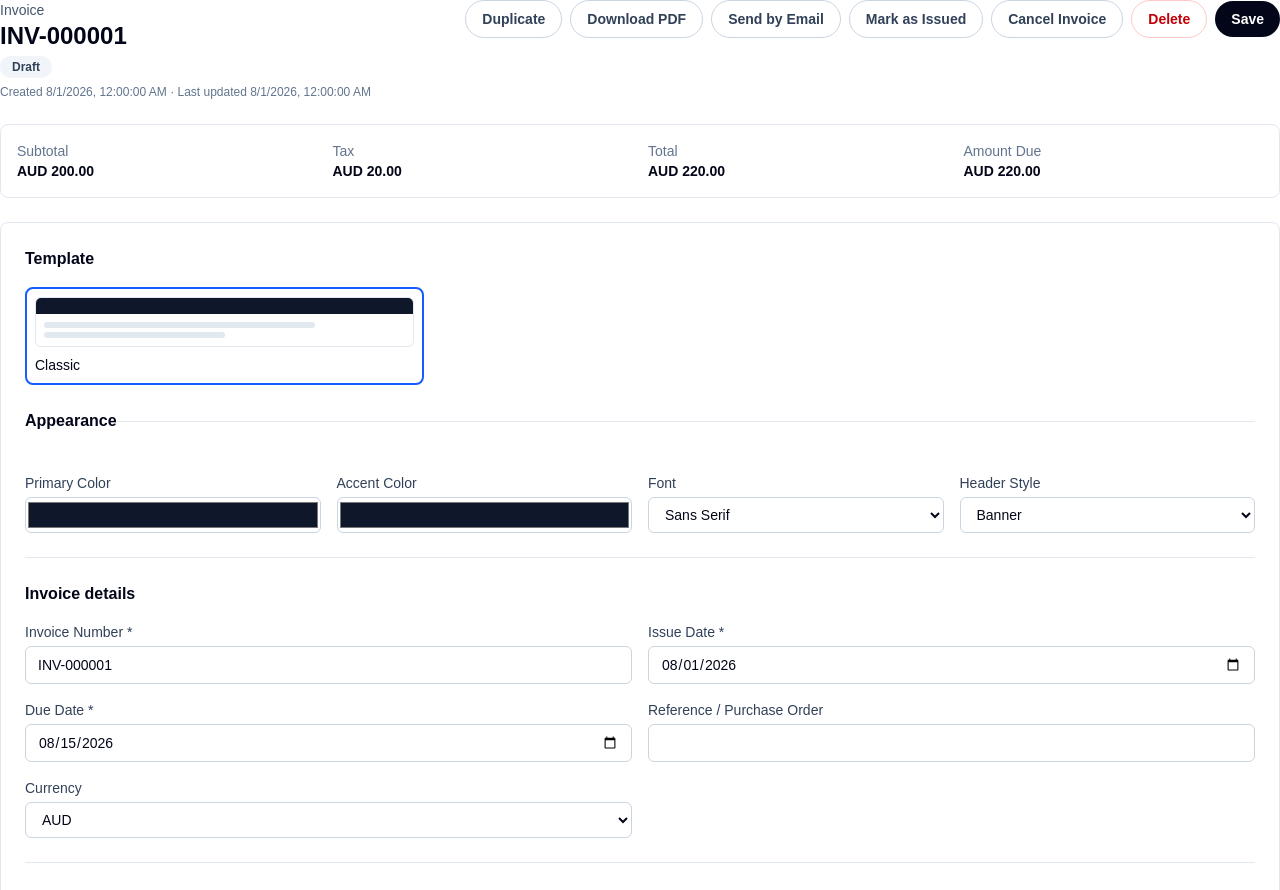
InvoiceDetail › cancel and delete (IG-49) › cancels the invoice after confirming, and updates the status badge
This screenshot has width=1280, height=890.
Click the button "Cancel Invoice" at (1057, 19), box x1=991 y1=0 x2=1123 y2=38
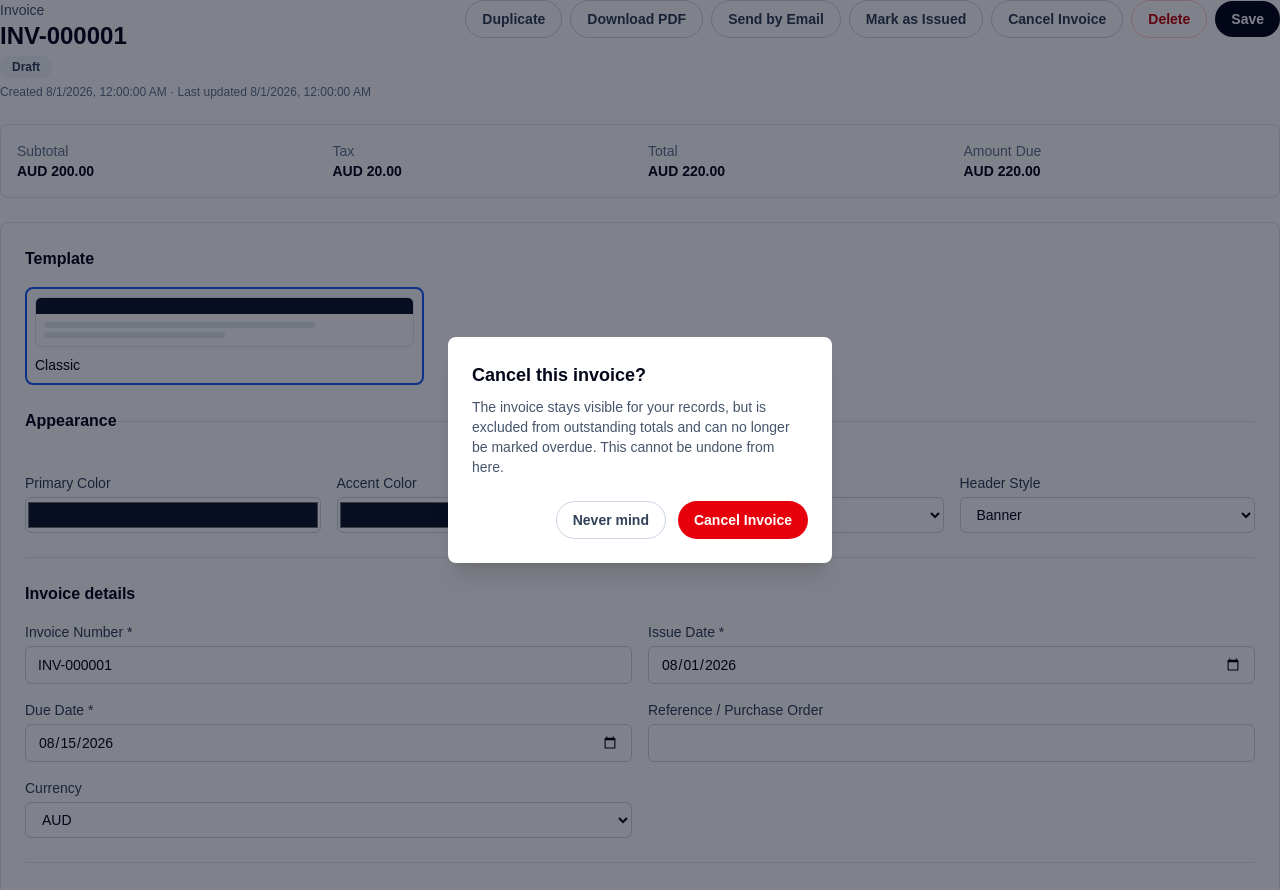
Click the button "Cancel Invoice" at (743, 520), box x1=678 y1=501 x2=808 y2=539
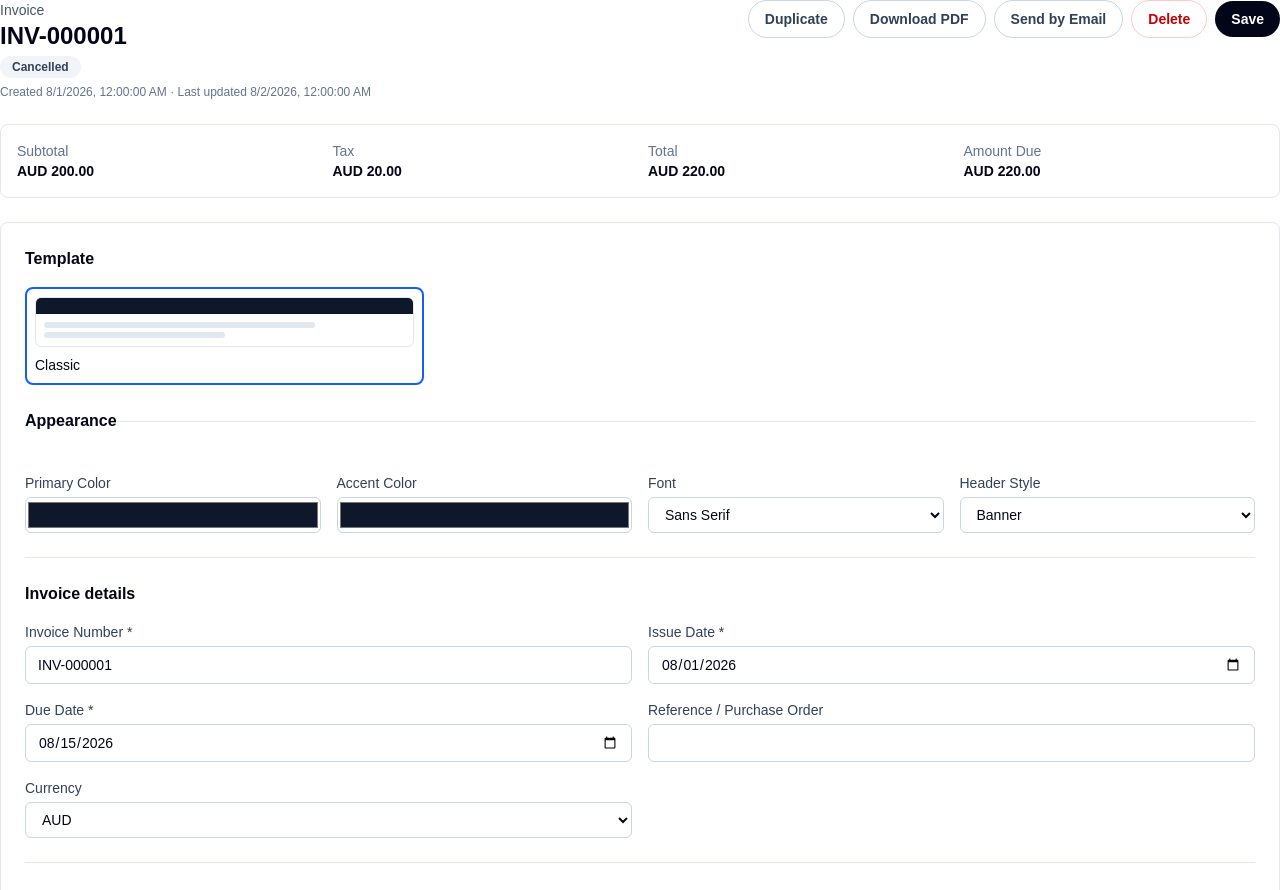
Expected: the text "Cancelled" is shown, x1=0 y1=56 x2=81 y2=78
Expected: the dialog is gone
